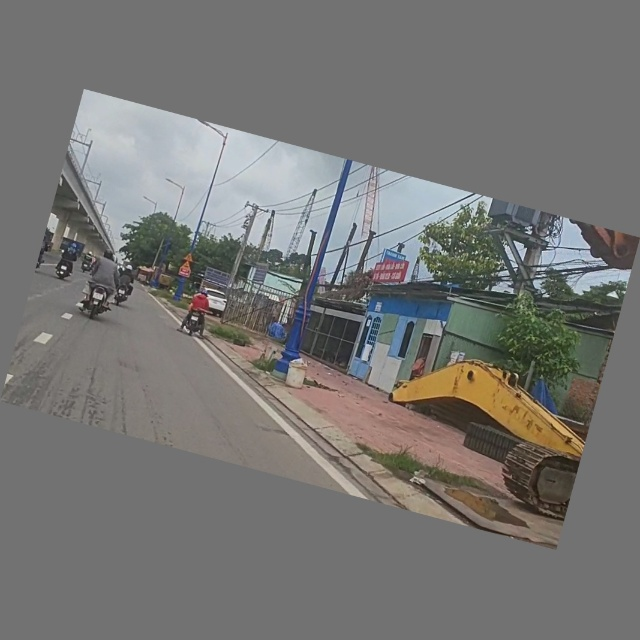W.203c: (183, 251, 196, 263)
W.245a: (180, 260, 195, 272)
